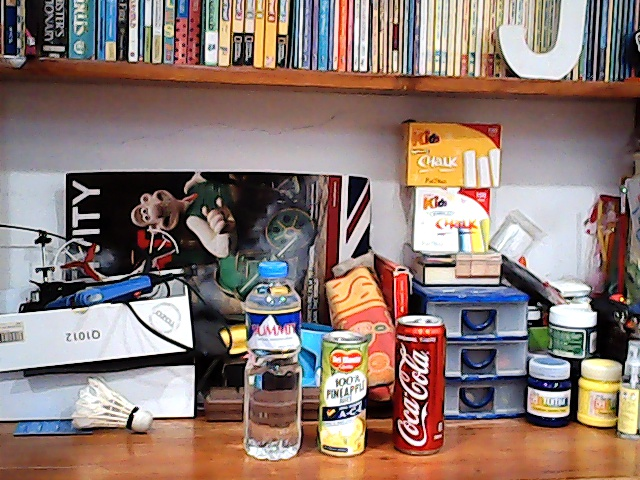Cola: (387, 314, 448, 457)
Pine Juice: (316, 327, 374, 459)
Summit Water: (238, 253, 305, 456)
